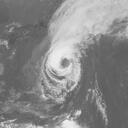cyclone: (38, 46, 82, 103)
